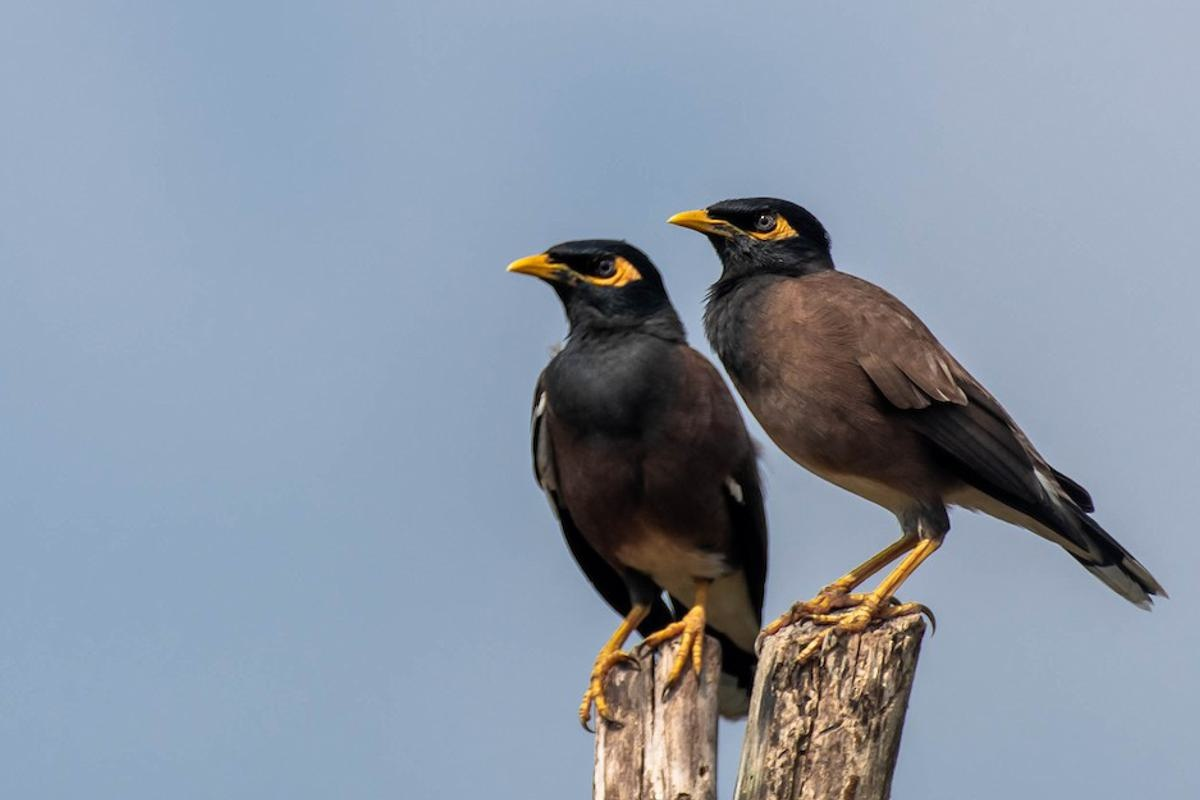myna: (691, 157, 1054, 688), (508, 204, 758, 713)
